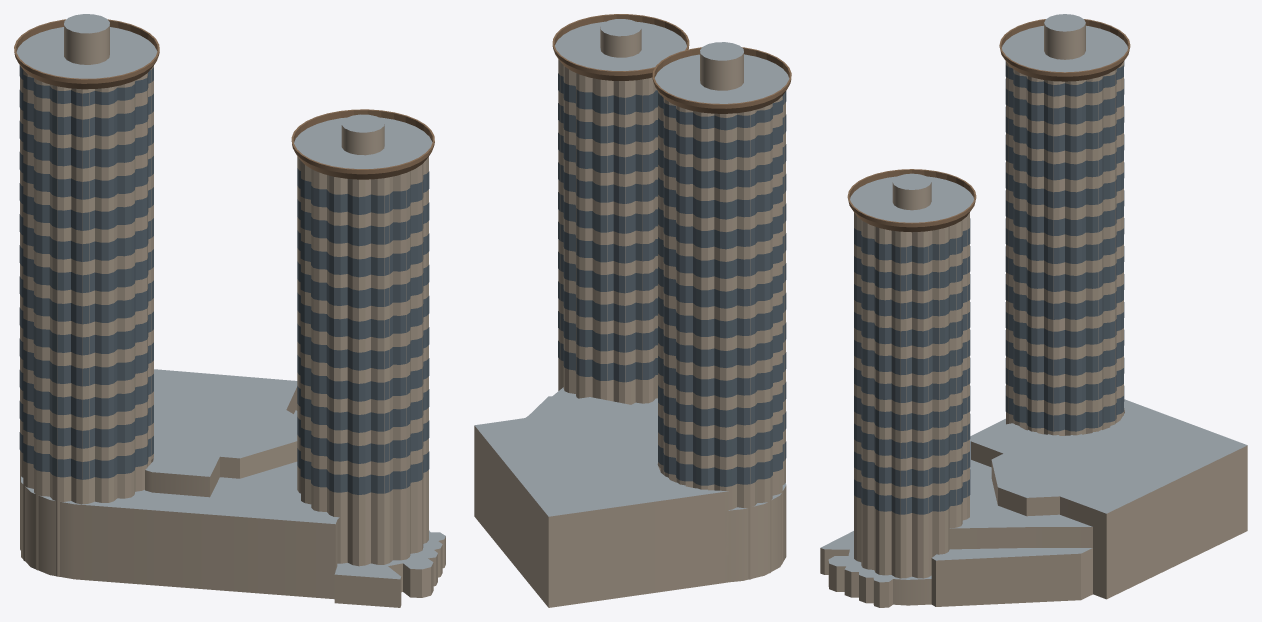
File: sea-westin-towers.glb
3 renders of one model, left to right at view 1: azimuth 30°, elevation 25°; view 2: azimuth 150°, elevation 25°; view 3: azimuth 270°, elevation 25°, orthographic. The views are drawn at different scales.
Parts seen in each view (by area): view 1: The Westin Seattle; view 2: The Westin Seattle; view 3: The Westin Seattle.
Part boxes in pixels (x1=…): The Westin Seattle: x1=14, y1=14, x2=445, y2=607; The Westin Seattle: x1=474, y1=14, x2=791, y2=607; The Westin Seattle: x1=820, y1=14, x2=1247, y2=607.
Size of the model in its own units: 93.3 by 148 by 121.
